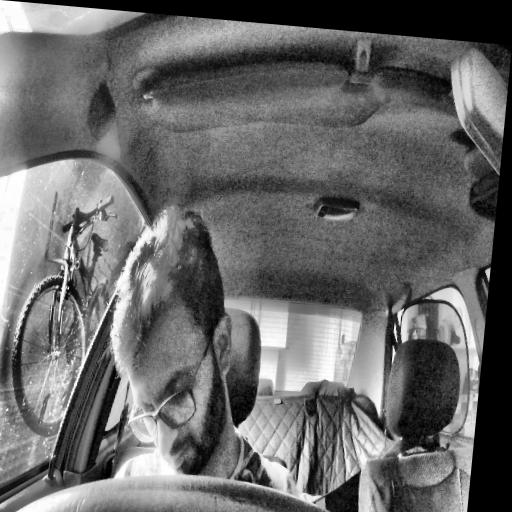drowsy: (97, 201, 248, 483)
